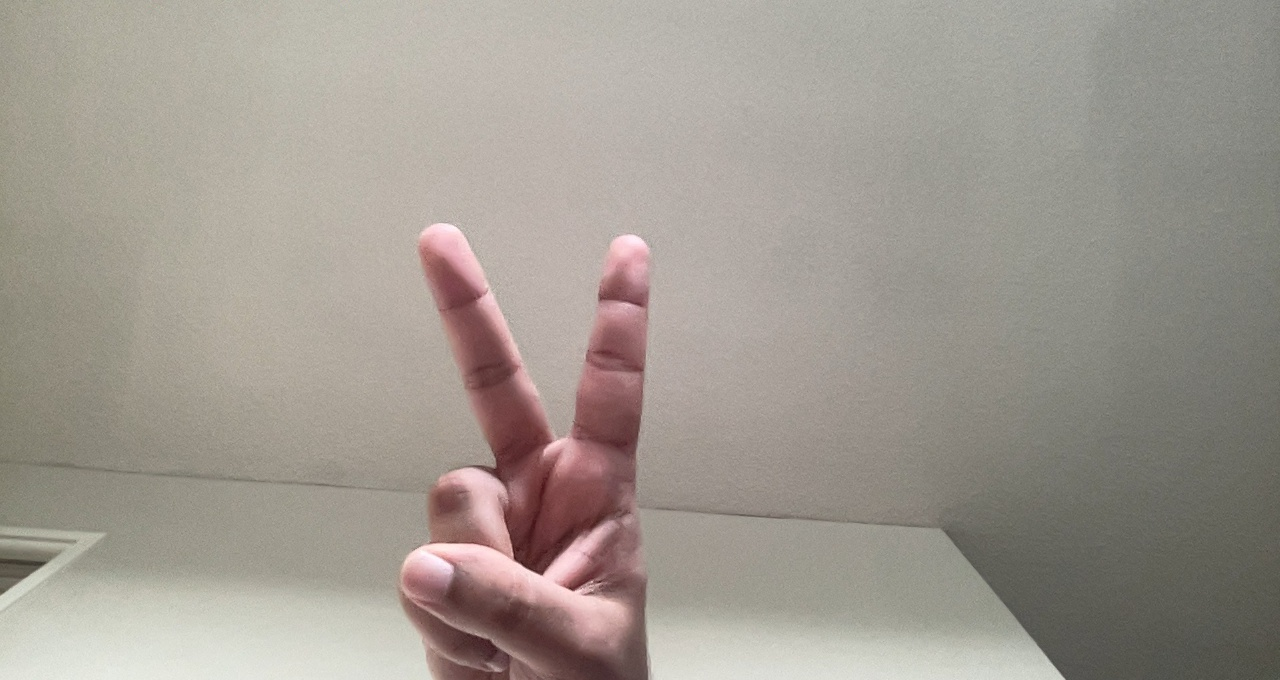peace sign: (390, 212, 670, 673)
